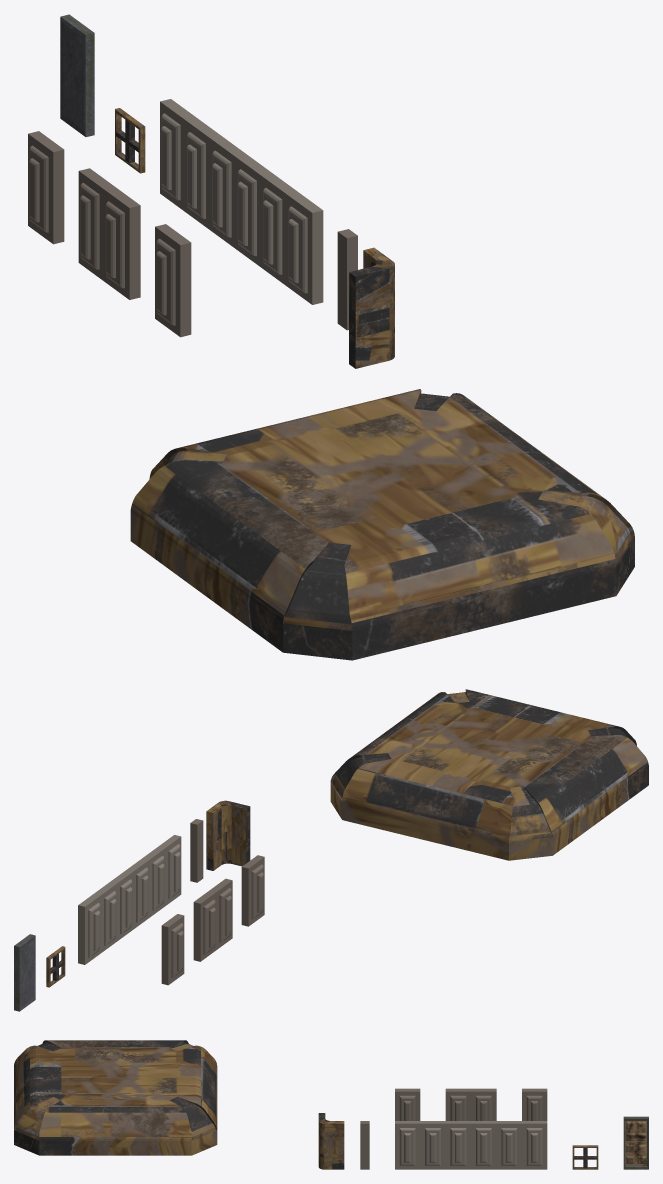
File: Modular House Assets_LoganChew.fbx
The picture shows the model from 3 angles, top to bottom: view 1: azimuth 30°, elevation 25°; view 2: azimuth 150°, elevation 25°; view 3: azimuth 270°, elevation 25°; orthographic projection. The views are drawn at different scales.
Parts seen in each view (by area): view 1: House Roof, Patterned wall no window gap, Patterned wall window gap, House Corner Piece, Modular Door, House Pillar, Modular small Window; view 2: House Roof, Patterned wall no window gap, Patterned wall window gap, House Corner Piece, Modular Door, House Pillar, Modular small Window; view 3: House Roof, Patterned wall no window gap, Patterned wall window gap, Modular Door, House Corner Piece, House Pillar, Modular small Window.
Part boxes in pixels (x1,y1,x2,y2): House Roof: (130,389,634,660); Patterned wall no window gap: (160,99,323,304); Patterned wall window gap: (28,131,191,337); House Corner Piece: (349,247,394,368); Modular Door: (60,14,94,136); House Pillar: (337,229,357,330); Modular small Window: (115,108,145,173); House Roof: (330,689,648,860); Patterned wall no window gap: (78,835,181,964); Patterned wall window gap: (161,855,264,985); House Corner Piece: (206,800,250,870); Modular Door: (14,934,35,1011); House Pillar: (190,819,203,882); Modular small Window: (46,946,65,987); House Roof: (14,1040,217,1155); Patterned wall no window gap: (395,1121,547,1169); Patterned wall window gap: (395,1088,547,1120); Modular Door: (623,1116,648,1169); House Corner Piece: (318,1113,344,1169); House Pillar: (360,1121,369,1169); Modular small Window: (572,1145,598,1169).
Size of the model in its own units: 921 by 222 by 2500.
